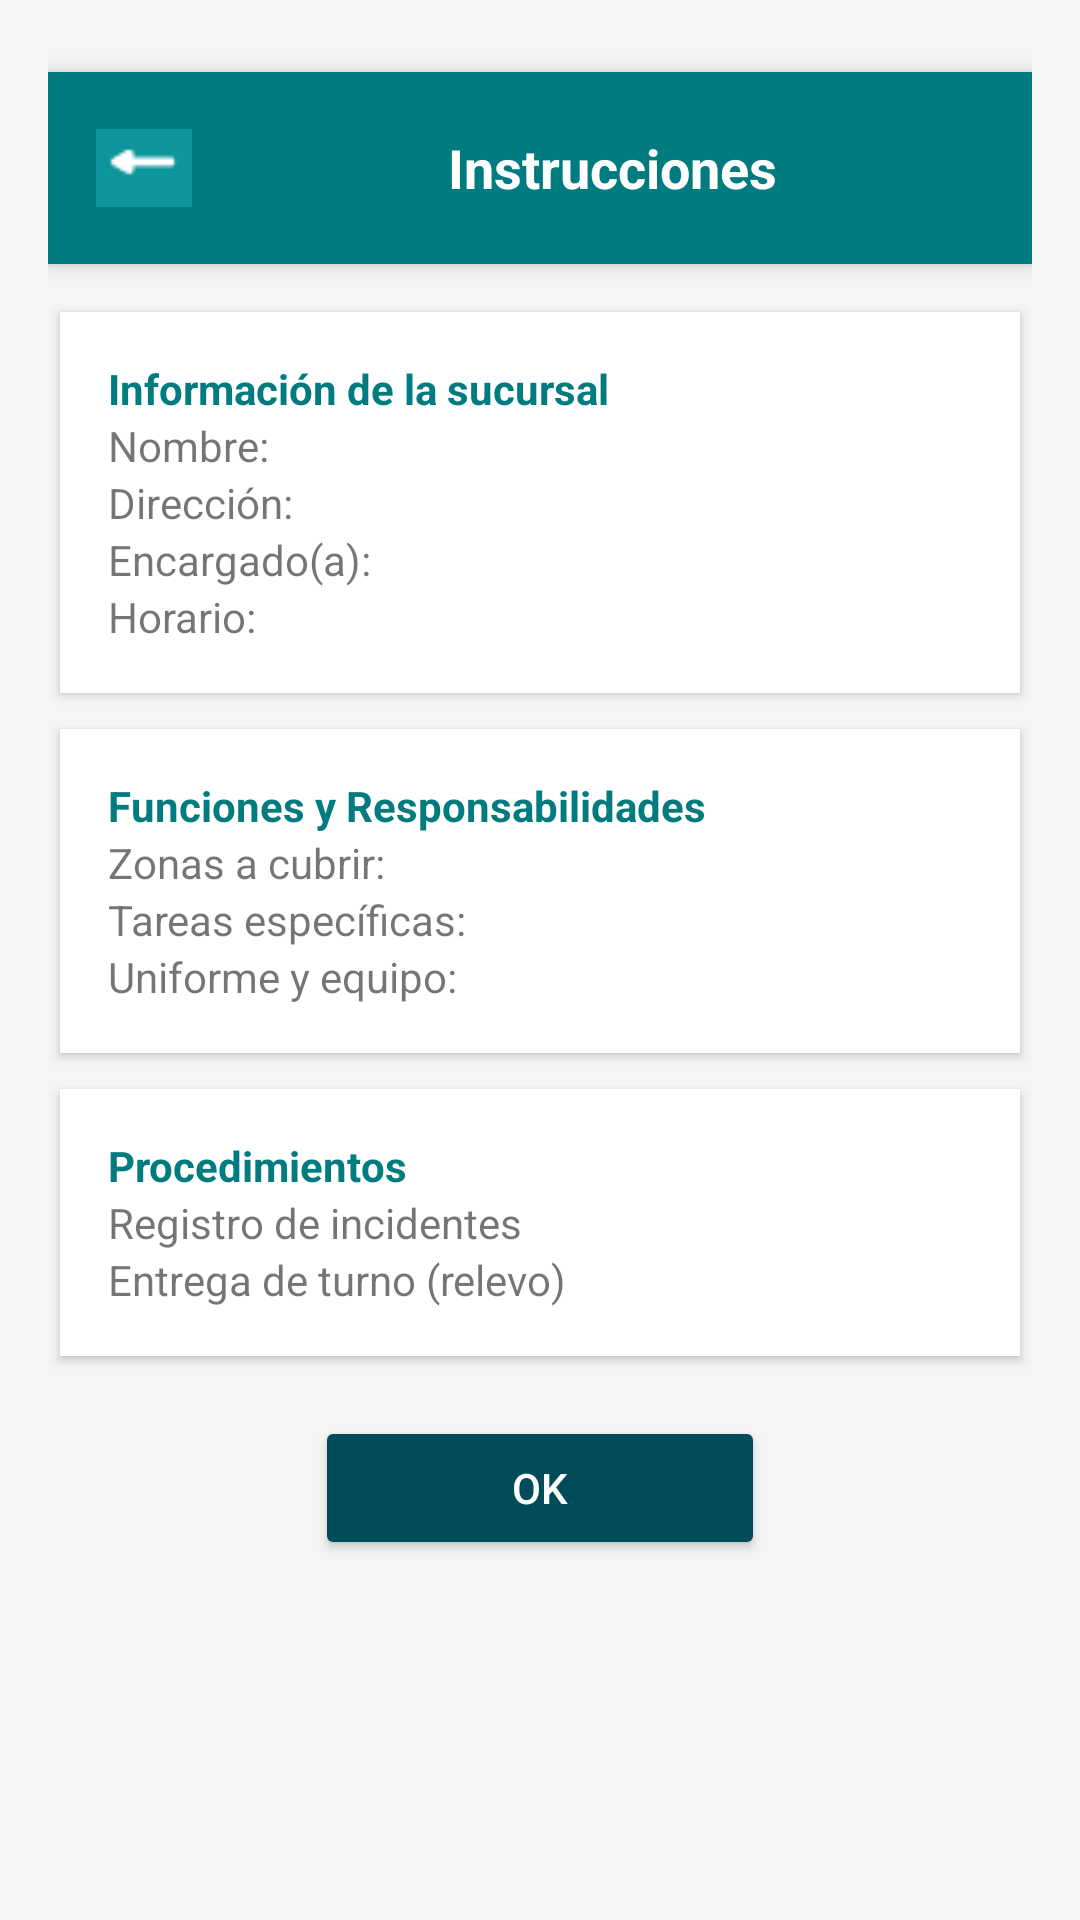

Icons on this 1080px x 1920px Android screen, each with its box as (x1, y1, x2, y2):
Volver: (96, 129, 192, 207)
